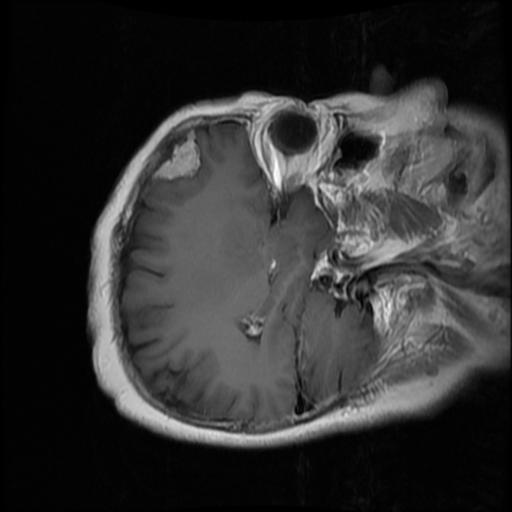meningioma: (154, 133, 199, 180)
